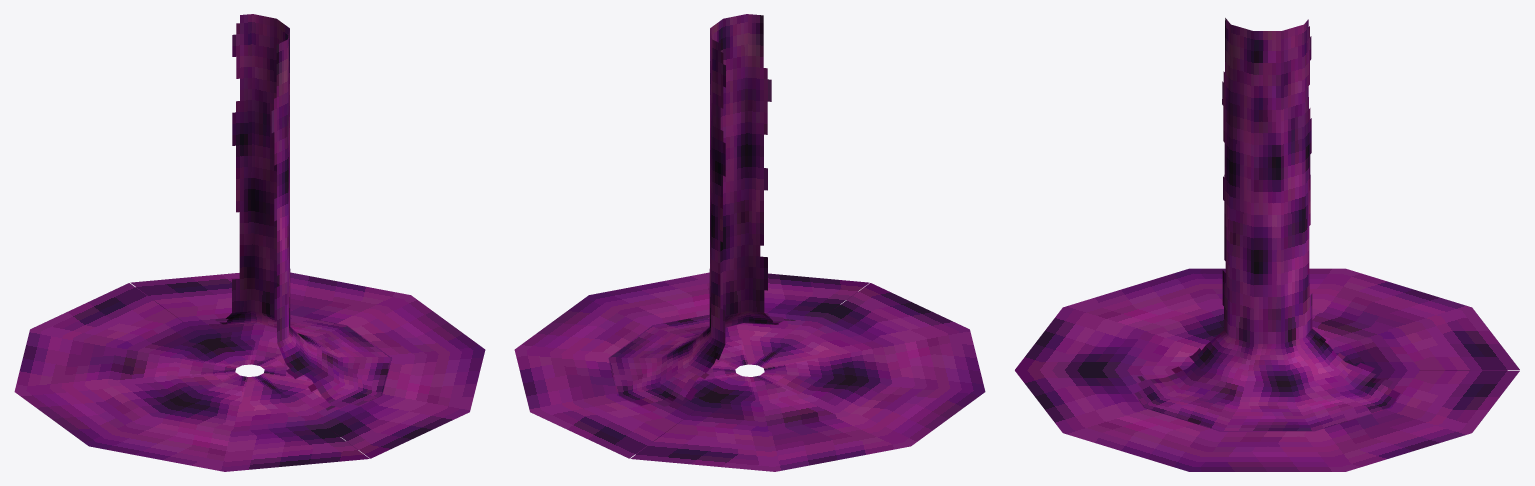
The model's file is eff_enem_MA_Duon_Kagemusi2_pori_S02_M.obj.
The picture shows the model from 3 angles, left to right: view 1: azimuth 30°, elevation 25°; view 2: azimuth 150°, elevation 25°; view 3: azimuth 270°, elevation 25°; orthographic projection. The views are drawn at different scales.
Visible parts, largest first — view 1: polygon0, polygon1; view 2: polygon0, polygon1; view 3: polygon0, polygon1.
Part boxes in pixels (bbox=[...]): polygon0: bbox=[14, 272, 485, 471]; polygon1: bbox=[211, 14, 391, 410]; polygon0: bbox=[514, 272, 985, 471]; polygon1: bbox=[608, 14, 795, 406]; polygon0: bbox=[1015, 268, 1519, 471]; polygon1: bbox=[1134, 18, 1400, 431].
Size of the model in its own units: 7.39 by 6.04 by 7.77.
2 materials, 2 textured.
